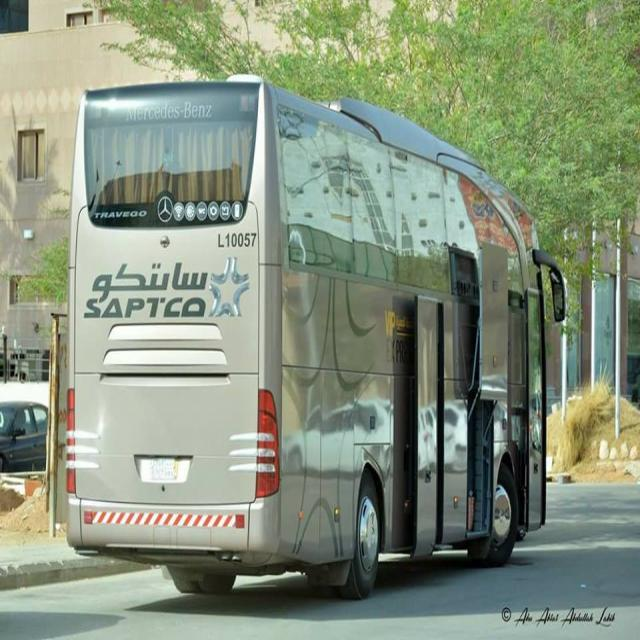bus: (67, 73, 569, 602)
